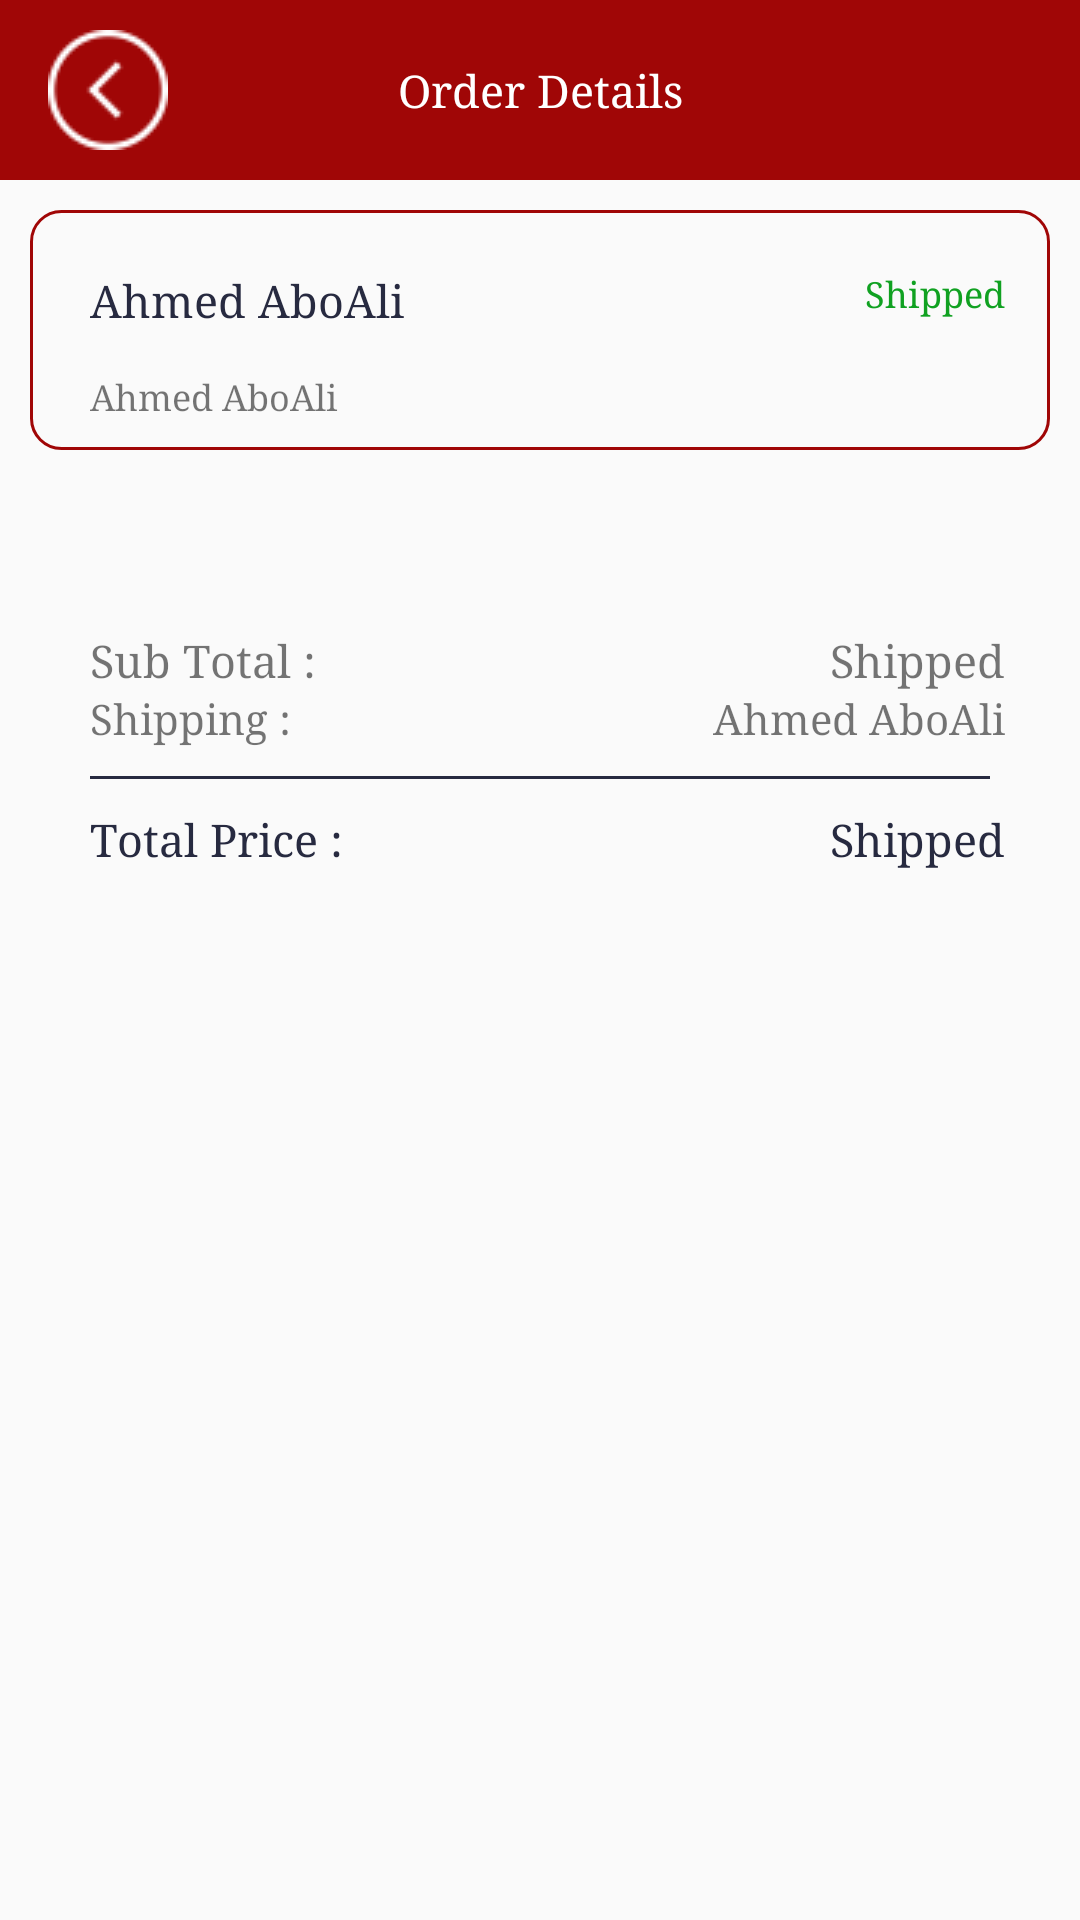

Screen size 1080x1920. Icon name, then its box in pixels as (x1, y1, x2, y2):
arrwo: (48, 30, 168, 150)
